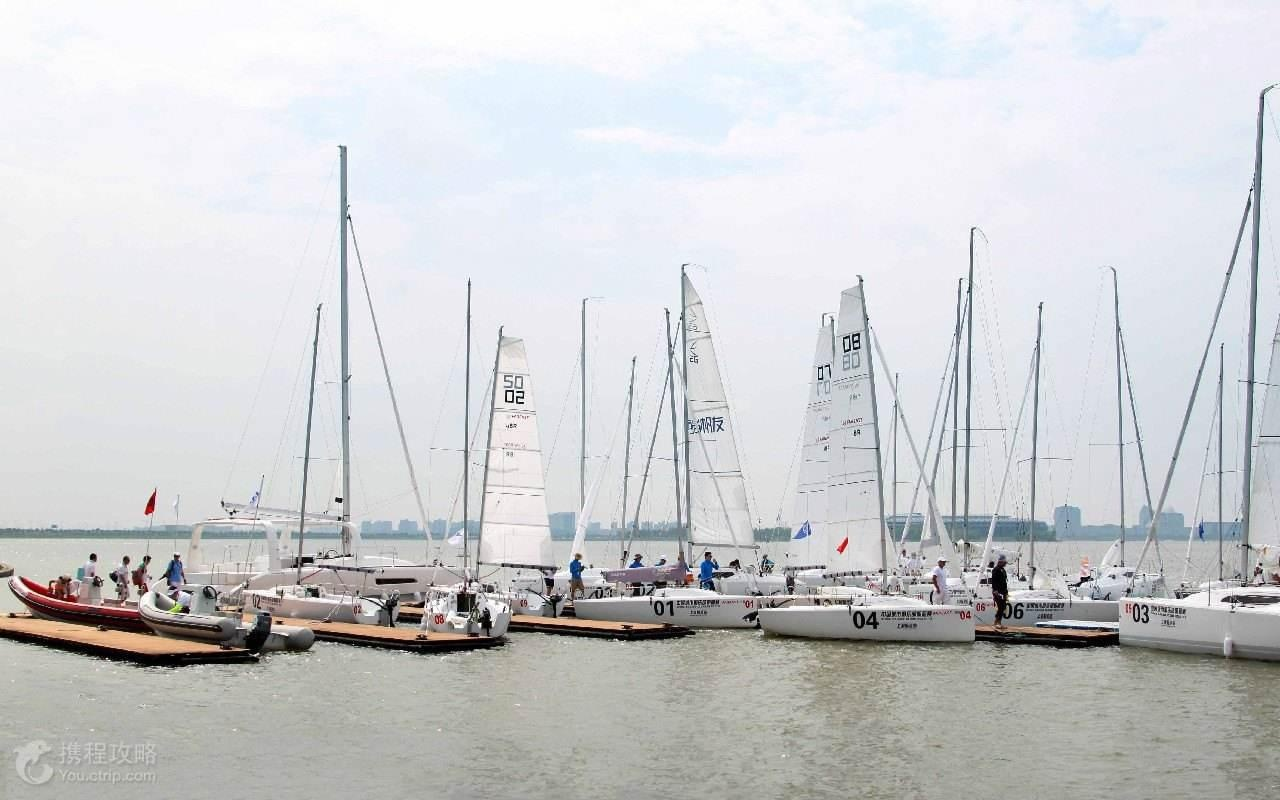fanchuan: (755, 274, 973, 637), (570, 259, 768, 630), (432, 315, 562, 635)
person: (983, 547, 1016, 633), (691, 547, 728, 601), (928, 552, 960, 610), (160, 547, 192, 602), (566, 549, 593, 598), (111, 556, 135, 610), (134, 547, 156, 599), (78, 548, 102, 595)
